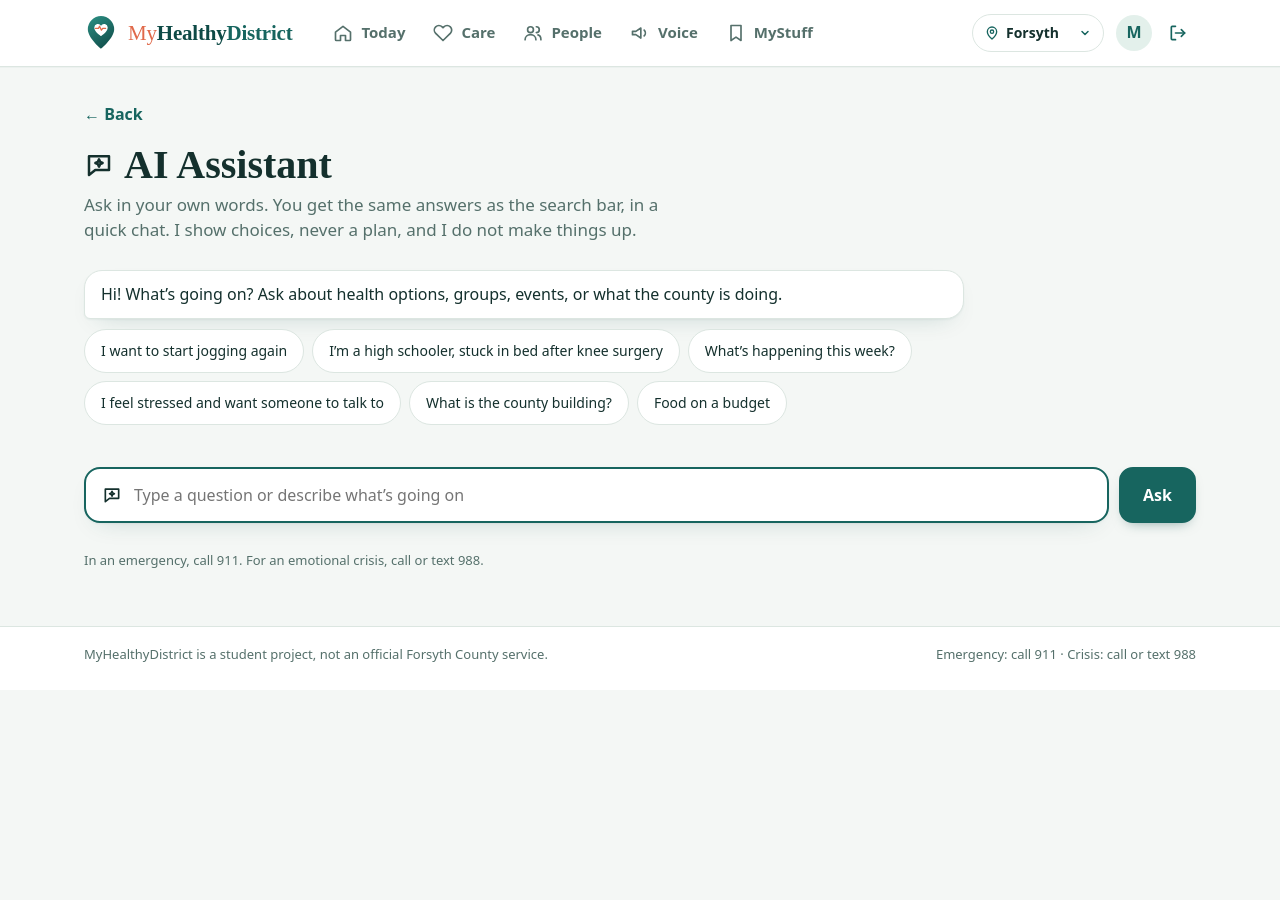
Test: AI Assistant answers › shows this week’s events like the People page, with the official calendar link, and lets you say you are going
Type "What’s happening this week?" into the field named "Ask the AI Assistant". click: (616,496)
box: [132,474,1099,518]
Then press Enter
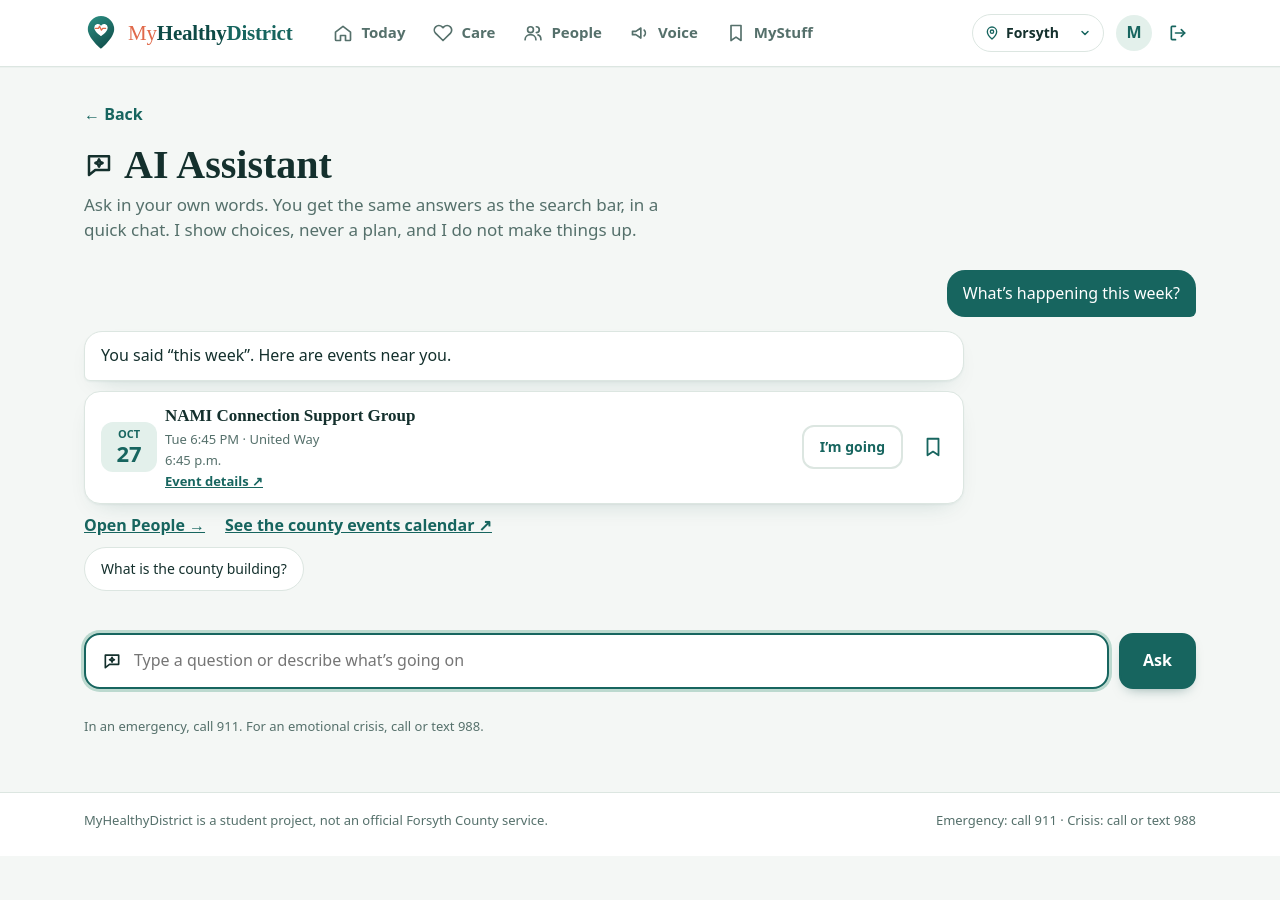
expect the element with test id "event-card" shows "NAMI Connection Support Group": met, box [165,406,416,425]
Click the button "I’m going". click: (852,447)
box: [802,425,903,469]
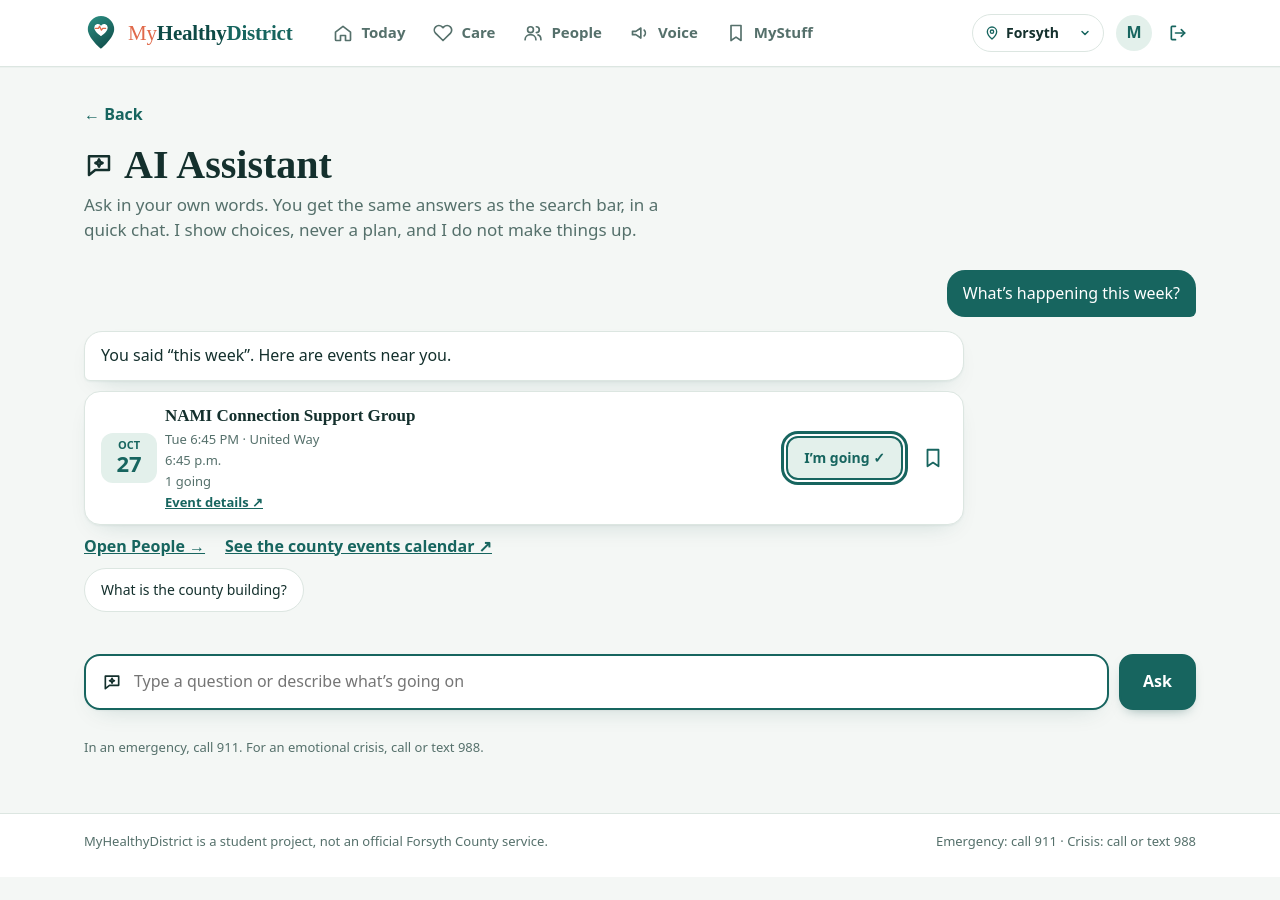
expect the button "I’m going ✓" is shown: met, box [786,436,903,480]
